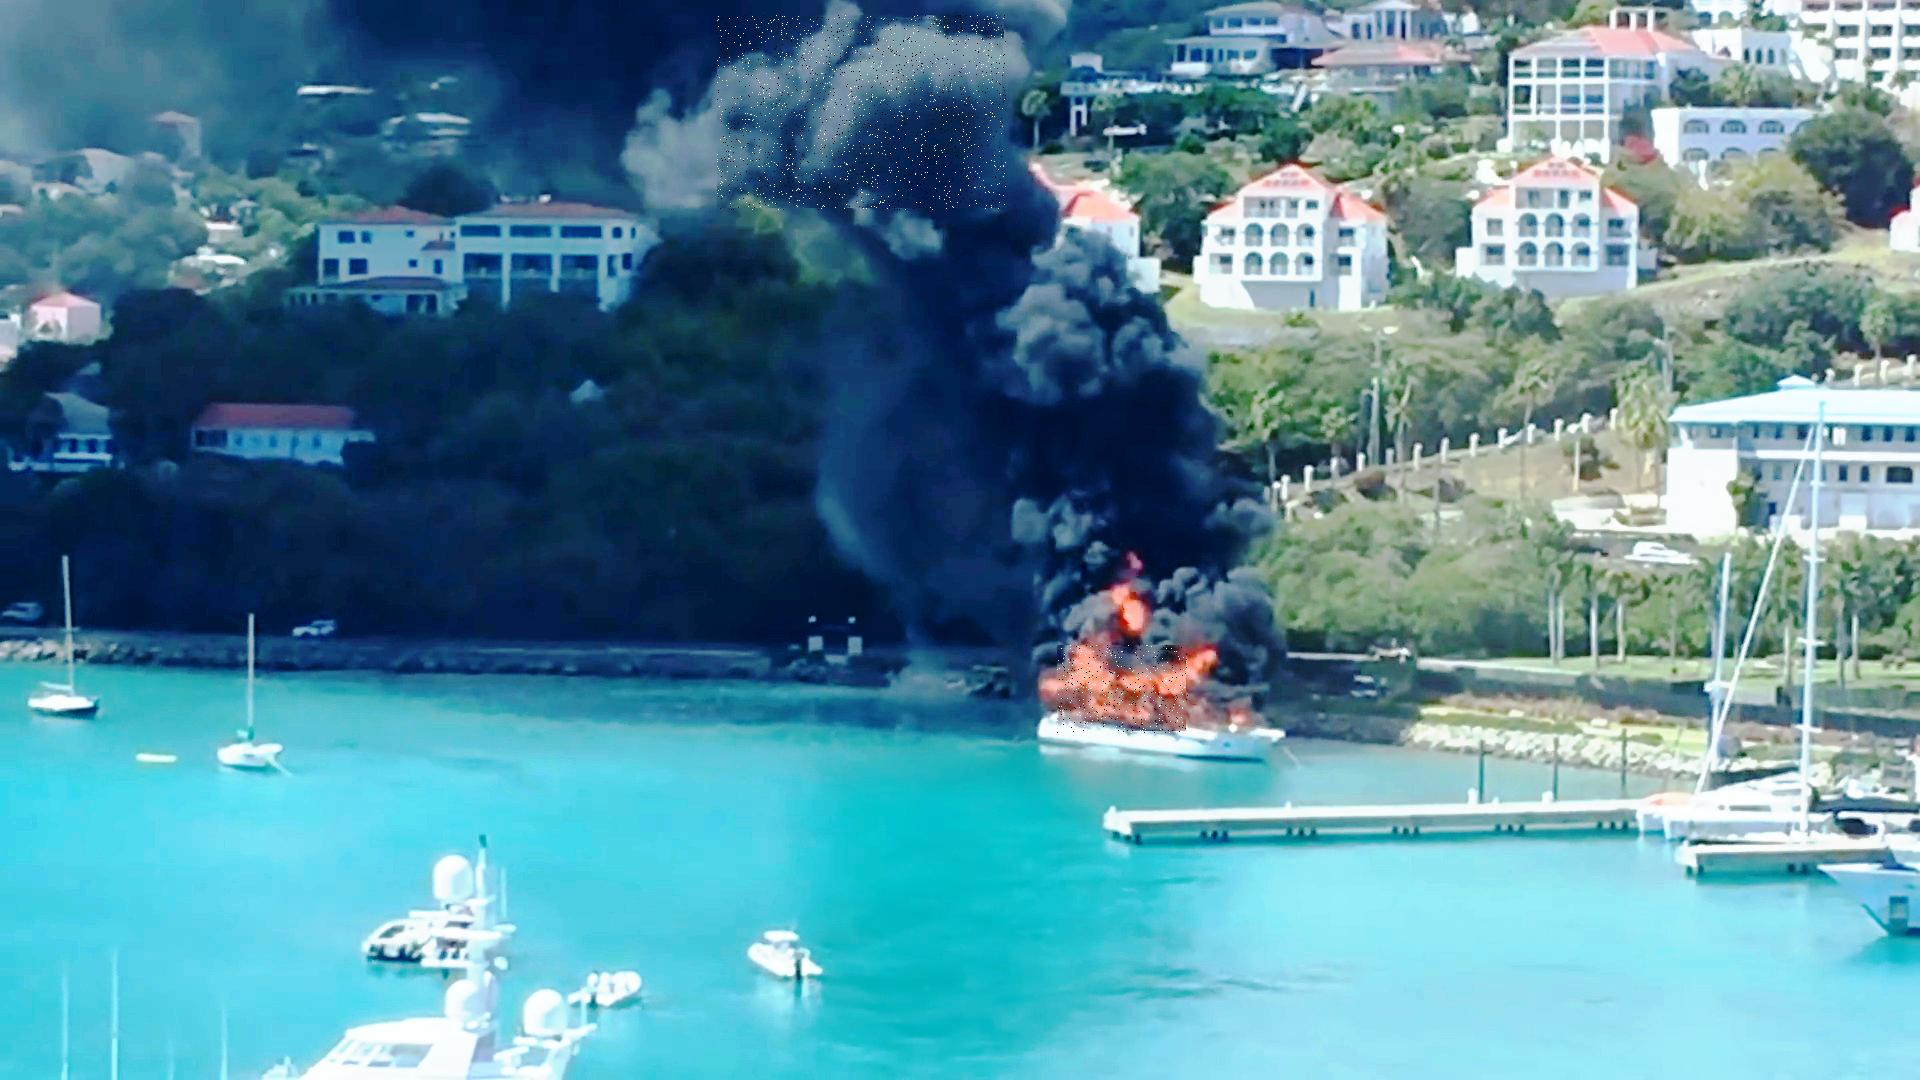fire: (1058, 646, 1189, 735)
smoke: (717, 16, 1007, 211)
